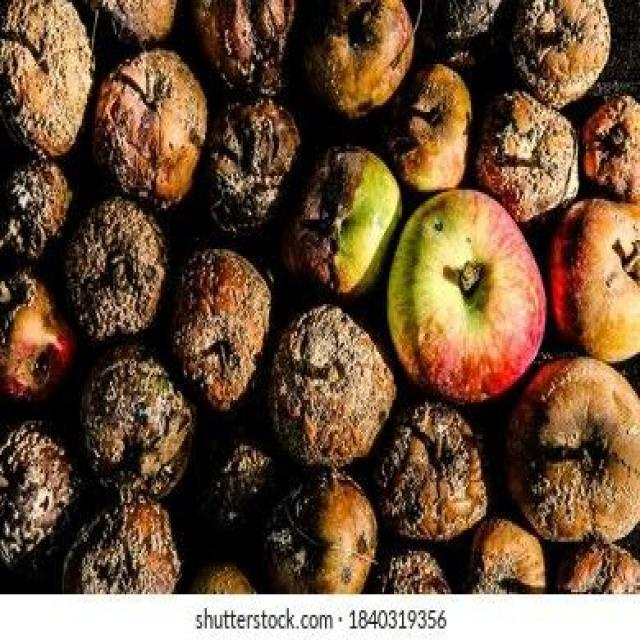Rotten Apple: (389, 186, 545, 406)
